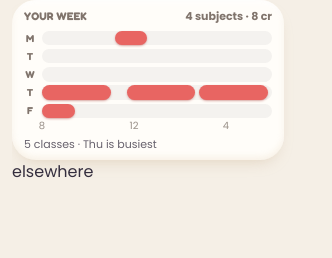
Test: WeekTimeline › pills are focusable buttons, Escape closes, a tap shows it and a tap elsewhere closes it, and a pointed pill lifts
Focus the button named "Web Engineering Lab" at (76, 93), box [42,85,111,100]
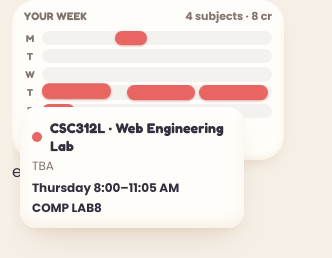
Expected: the tooltip is shown, [20,108,244,228]
Press Escape
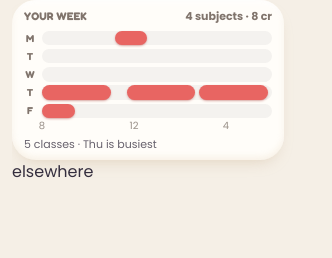
Expected: the tooltip "CSC312L · Web Engineering Lab TBA Thursday 8:00–11:05 AM COMP LAB8" is gone
Click the button named "Web Engineering Lab" at (76, 93), box [42,85,111,100]
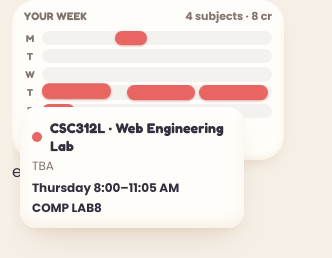
Expected: the tooltip is shown, [20,108,244,228]
Press the mouse on the text "elsewhere" at (53, 171), box [12,160,93,183]
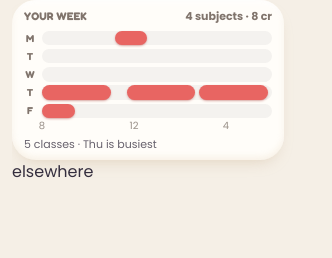
Expected: the tooltip "CSC312L · Web Engineering Lab TBA Thursday 8:00–11:05 AM COMP LAB8" is gone
